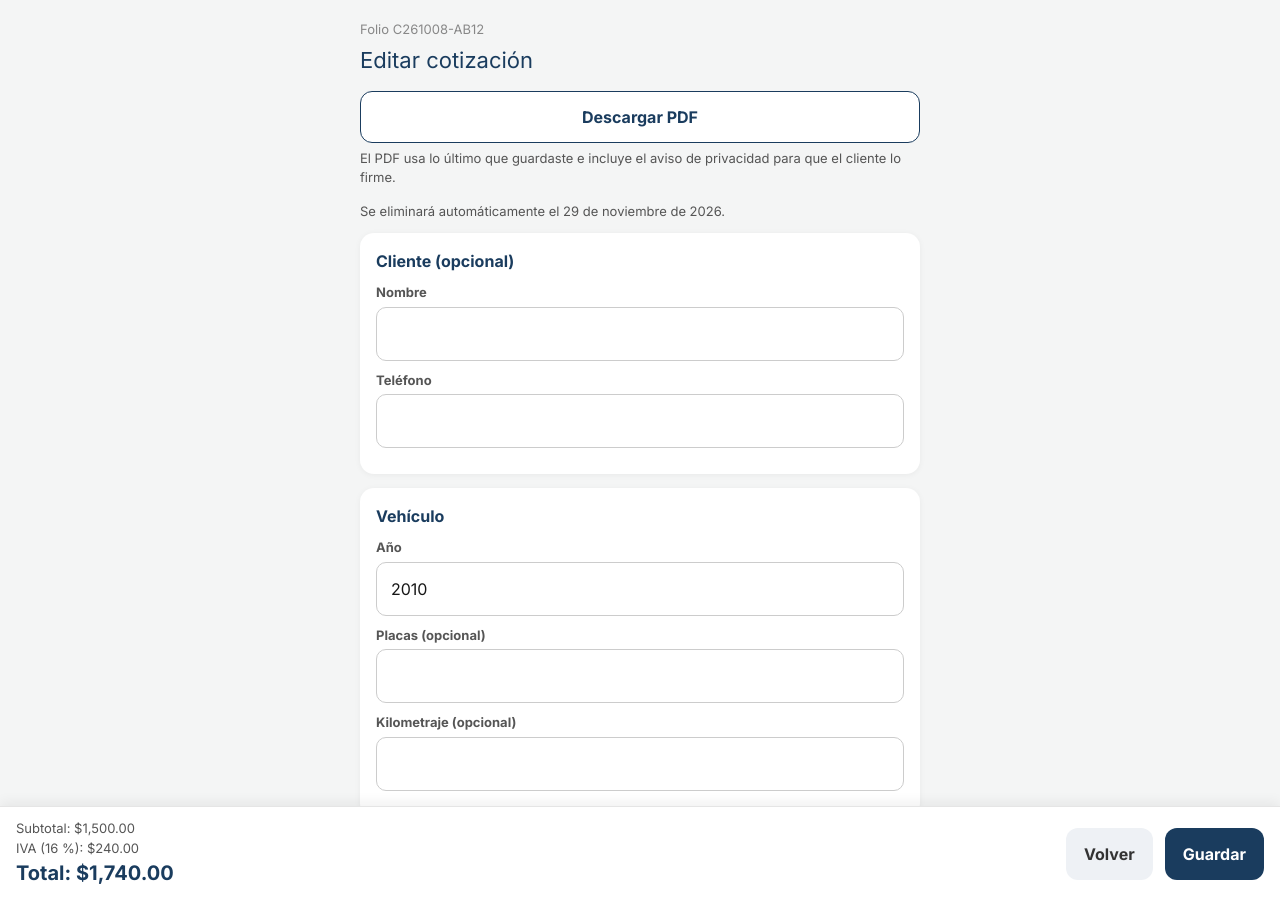
PDF de la cotización según la versión de su aviso › otro error: el mensaje de siempre
Expected: the text "Folio C261008-AB12" is shown, [360,21,484,37]
Click the button "Descargar PDF": point(640, 116) [360,90,920,142]
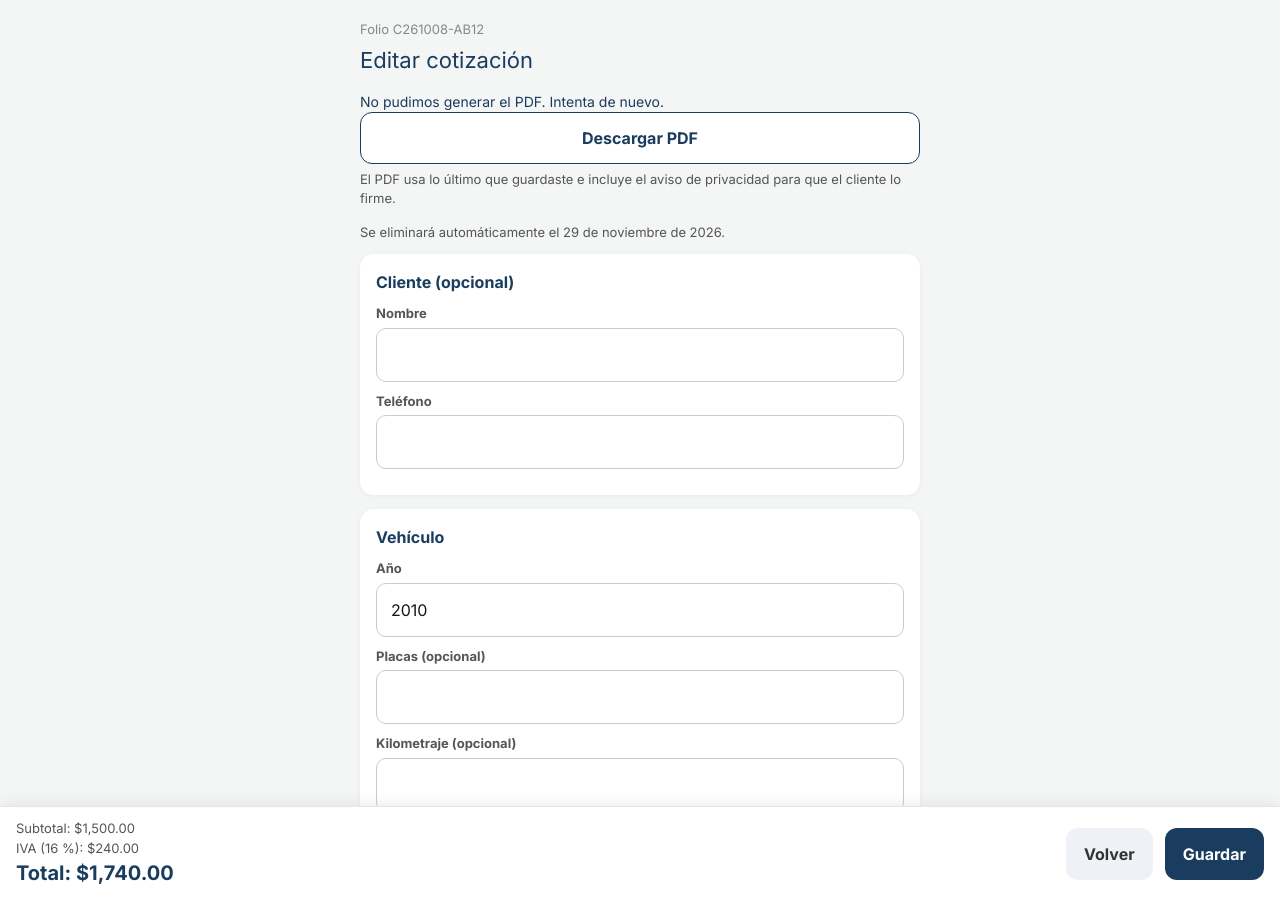
Expected: the text "No pudimos generar el PDF. Intenta de nuevo." is shown, [360,92,664,110]
